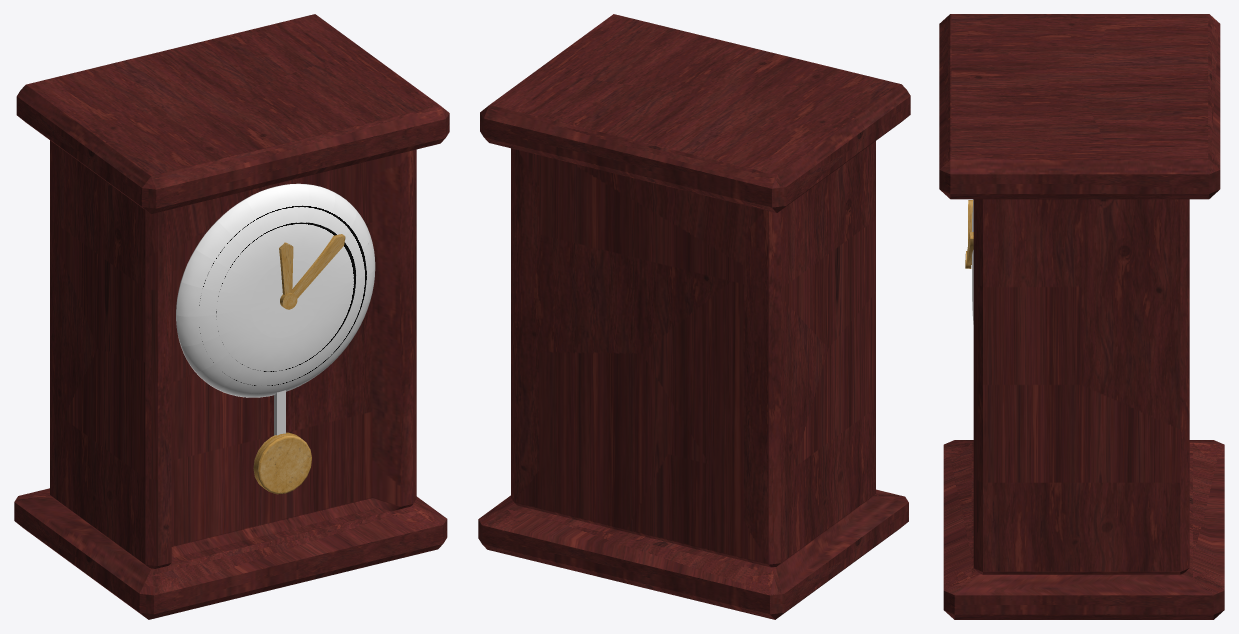
The model's file is Clock_S.fbx.
The picture shows the model from 3 angles, left to right: view 1: azimuth 30°, elevation 25°; view 2: azimuth 150°, elevation 25°; view 3: azimuth 270°, elevation 25°; orthographic projection. The views are drawn at different scales.
Parts seen in each view (by area): view 1: body, clock_face, golden; view 2: body; view 3: body.
Part boxes in pixels (x1=…): body: x1=14, y1=14, x2=449, y2=619; clock_face: x1=176, y1=183, x2=375, y2=397; golden: x1=253, y1=234, x2=345, y2=494; body: x1=478, y1=14, x2=910, y2=619; body: x1=939, y1=14, x2=1224, y2=619.
Bounding box in the file's own units: 17.02 × 23.51 × 13.2.
4 materials, 3 textured.
